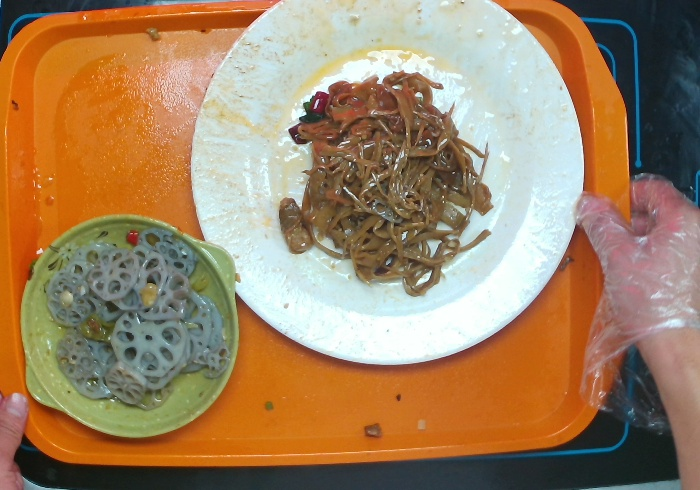NLDX-Da_Yuan_Pan: (187, 1, 589, 369)
NLDX-Lv_Hua_Shuang_Er_Die: (16, 209, 242, 444)
